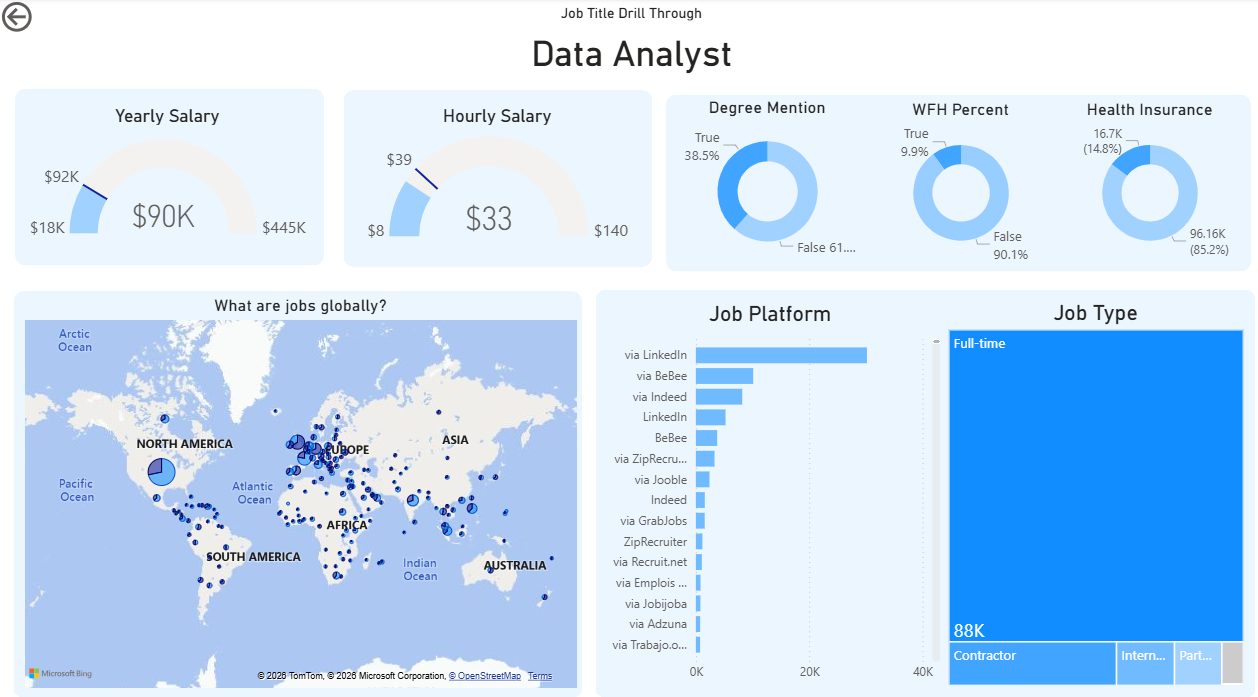

What the dashboard file says about the page in this screenshot:
{"tool":"powerbi","page":{"name":"drill through dashboard","canvas":[1280,720],"ordinal":1},"visuals":[{"type":"shape","box":[604.2,295.3,666.3,413.4],"z":0},{"type":"card","title":"Job Title Drill Through","fields":{"Values":["Min(job_postings_flat.job_title_short)"]},"box":[377,7.3,526.9,75.7],"z":1000},{"type":"actionButton","box":[0,0,100,40],"z":2000},{"type":"group","id":"g1","title":"Group 4","box":[17.8,93,311.9,178.7],"z":3000},{"type":"gauge","title":"Yearly Salary","fields":{"Y":["Median(job_postings_flat.salary_year_avg)"],"MinValue":["Min(job_postings_flat.salary_year_avg)"],"MaxValue":["Max(job_postings_flat.salary_year_avg)"],"TargetValue":["Avg(job_postings_flat.salary_year_avg)1"]},"box":[22.3,108.4,298.3,148.4],"z":4000},{"type":"shape","box":[349.3,94.2,311.9,178.7],"z":4500,"group":"g2"},{"type":"shape","box":[675,97.8,590.5,178.7],"z":5000},{"type":"shape","box":[17.8,93,311.9,178.7],"z":6000,"group":"g1"},{"type":"donutChart","title":"Degree Mention","fields":{"Category":["job_postings_flat.job_no_degree_mention"],"Y":["CountNonNull(job_postings_flat.job_no_degree_mention)"]},"box":[678.8,101.1,198.4,169.6],"z":6000},{"type":"group","id":"g2","title":"Group 4","box":[349.3,94.2,311.9,178.7],"z":7000},{"type":"gauge","title":"Hourly Salary","fields":{"Y":["Median(job_postings_flat.salary_hour_avg)"],"MinValue":["Min(job_postings_flat.salary_hour_avg)1"],"MaxValue":["Max(job_postings_flat.salary_hour_avg)2"],"TargetValue":["Avg(job_postings_flat.salary_hour_avg)3"]},"box":[363,108.4,283.2,148.4],"z":8000},{"type":"donutChart","title":"WFH Percent","fields":{"Category":["job_postings_flat.job_work_from_home"],"Y":["CountNonNull(job_postings_flat.job_work_from_home)"]},"box":[886.2,102.6,174.1,169.6],"z":9000},{"type":"donutChart","title":"Health Insurance","fields":{"Category":["job_postings_flat.job_health_insurance"],"Y":["CountNonNull(job_postings_flat.job_health_insurance)"]},"box":[1077,102.6,174.1,169.6],"z":10000},{"type":"treemap","title":"Job Type","fields":{"Group":["job_postings_flat.job_schedule_type"],"Values":["CountNonNull(job_postings_flat.job_schedule_type)"]},"box":[955.5,305.9,307.4,393.7],"z":11000},{"type":"clusteredBarChart","title":"Job Platform","fields":{"Category":["job_postings_flat.job_via"],"Y":["CountNonNull(job_postings_flat.job_via)"]},"box":[604.2,307.4,352.8,392.2],"z":12000},{"type":"shape","box":[16.7,296.8,573.9,411.9],"z":13000},{"type":"map","title":"What are jobs globally?","fields":{"Category":["job_postings_flat.job_country"],"Size":["CountNonNull(job_postings_flat.job_title_short)"],"Series":["job_postings_flat.job_no_degree_mention"]},"box":[22.7,301.3,567.8,401.3],"z":14000}]}

Visuals, with their boxes in screenshot pixels (x1, y1, x2, y2), scaled from the page's 1280x720 canvas onto the 1258x697 screenshot:
shape: left=594, top=286, right=1249, bottom=686
"Job Title Drill Through" card: left=371, top=7, right=888, bottom=80
actionButton: left=0, top=0, right=98, bottom=39
"Group 4" group: left=17, top=90, right=324, bottom=263
"Yearly Salary" gauge: left=22, top=105, right=315, bottom=249
shape: left=343, top=91, right=650, bottom=264
shape: left=663, top=95, right=1244, bottom=268
shape: left=17, top=90, right=324, bottom=263
"Degree Mention" donutChart: left=667, top=98, right=862, bottom=262
"Group 4" group: left=343, top=91, right=650, bottom=264
"Hourly Salary" gauge: left=357, top=105, right=635, bottom=249
"WFH Percent" donutChart: left=871, top=99, right=1042, bottom=264
"Health Insurance" donutChart: left=1058, top=99, right=1230, bottom=264
"Job Type" treemap: left=939, top=296, right=1241, bottom=677
"Job Platform" clusteredBarChart: left=594, top=298, right=941, bottom=677
shape: left=16, top=287, right=580, bottom=686
"What are jobs globally?" map: left=22, top=292, right=580, bottom=680
